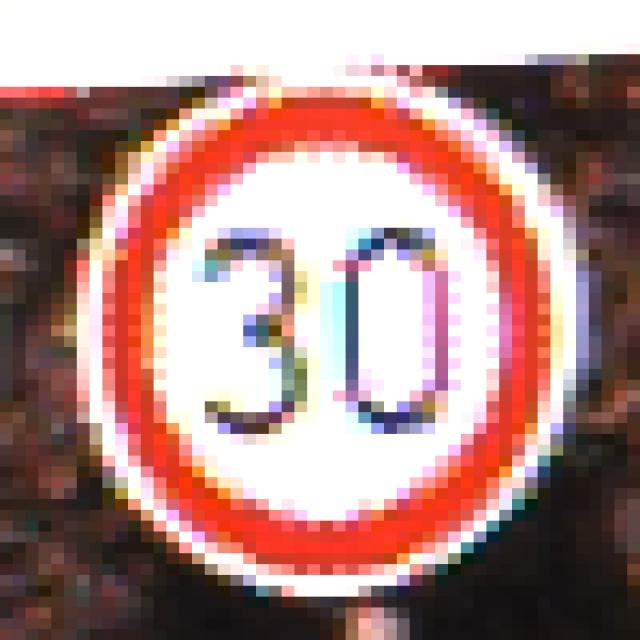Speed Limit -30-: (58, 54, 556, 564)
